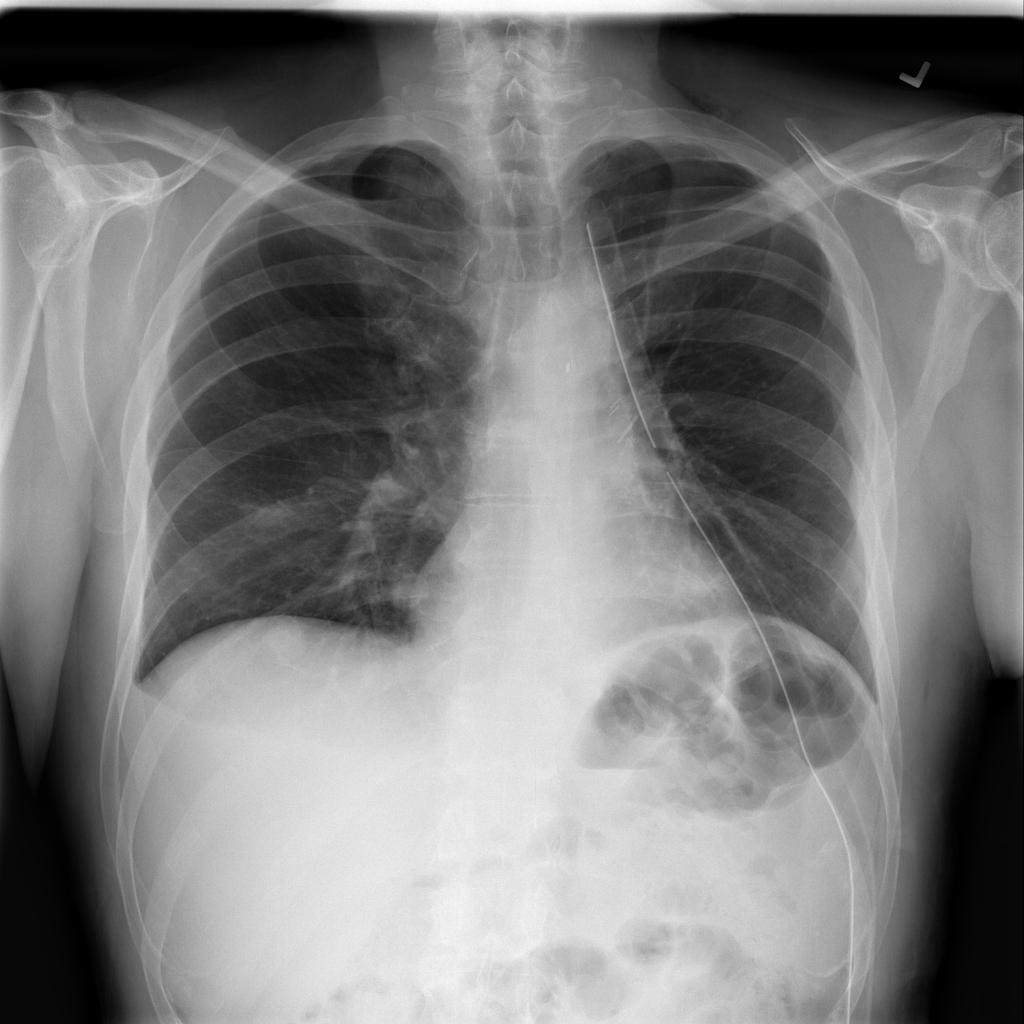nodule: (244, 608, 323, 678)
